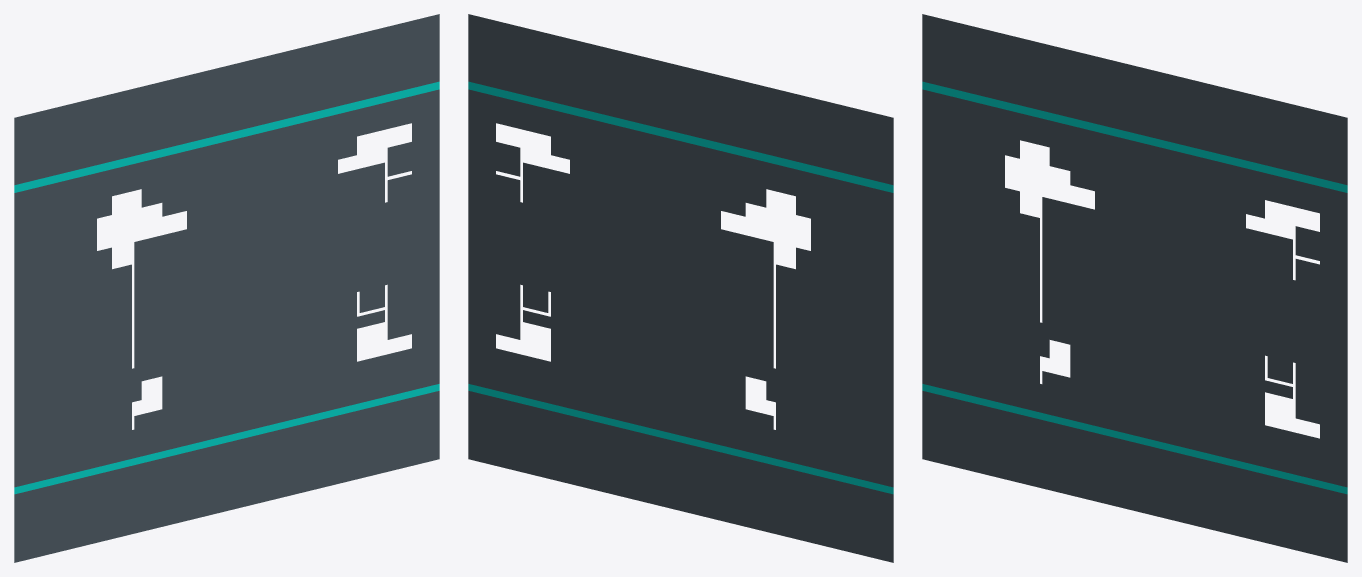
The model's file is LevelWallCleanBroken.fbx.
The picture shows the model from 3 angles, left to right: view 1: azimuth 30°, elevation 25°; view 2: azimuth 150°, elevation 25°; view 3: azimuth 330°, elevation 25°; orthographic projection.
Parts seen in each view (by area): view 1: pPlane5; view 2: pPlane5; view 3: pPlane5.
Boxes of the visible parts, x1,y1,x2,y2 form: pPlane5: (14, 14, 439, 562); pPlane5: (468, 14, 893, 562); pPlane5: (922, 14, 1347, 562).
Size of the model in its own units: 1000 by 1000 by 3.05e-05.
